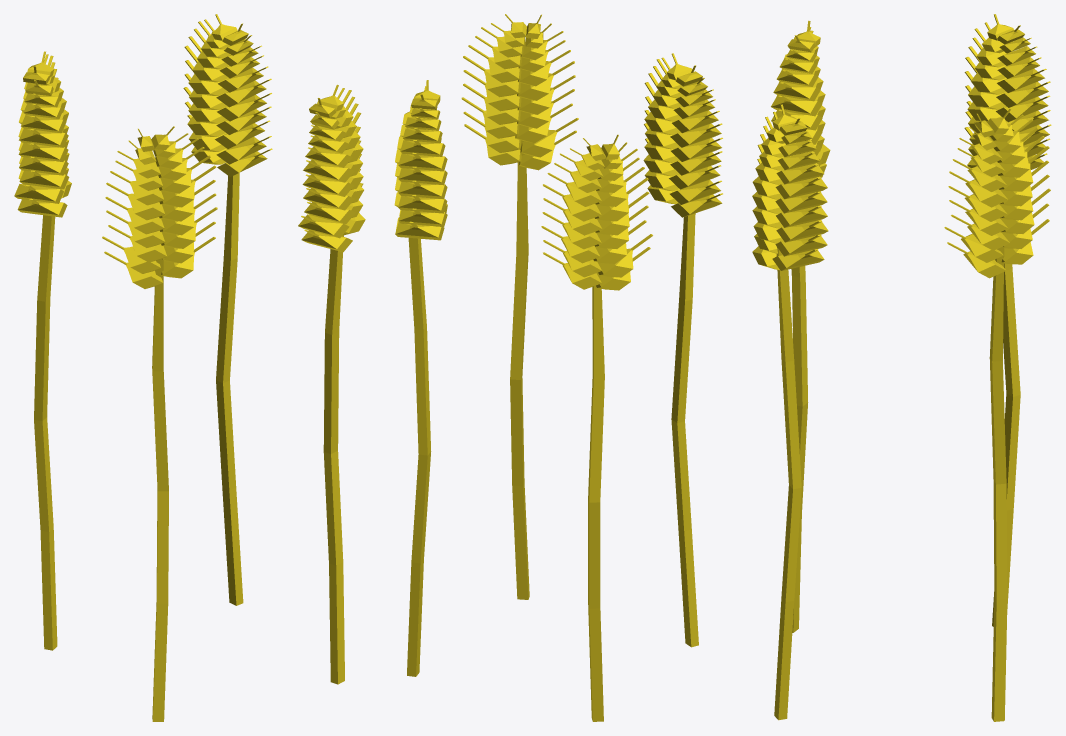
Rendered from wheat.gltf.
3 views of the same model, side by side, from view 1: azimuth 30°, elevation 25°; view 2: azimuth 150°, elevation 25°; view 3: azimuth 270°, elevation 25° (orthographic). The views are drawn at different scales.
Parts seen in each view (by area): view 1: Wheat.018, Wheat.020, Wheat.021, Wheat.019; view 2: Wheat.021, Wheat.020, Wheat.019, Wheat.018; view 3: Wheat.018, Wheat.021, Wheat.019, Wheat.020.
Boxes of the visible parts, left/top/right/bottom form: Wheat.018: left=183, top=14, right=272, bottom=605; Wheat.020: left=102, top=126, right=217, bottom=721; Wheat.021: left=298, top=84, right=365, bottom=684; Wheat.019: left=14, top=51, right=71, bottom=650; Wheat.021: left=461, top=14, right=578, bottom=599; Wheat.020: left=643, top=53, right=722, bottom=647; Wheat.019: left=541, top=134, right=652, bottom=721; Wheat.018: left=394, top=80, right=447, bottom=676; Wheat.018: left=944, top=108, right=1050, bottom=721; Wheat.021: left=752, top=104, right=828, bottom=720; Wheat.019: left=964, top=14, right=1051, bottom=626; Wheat.020: left=771, top=20, right=830, bottom=632.
Bounding box in the file's own units: 1.39 × 2.96 × 1.33.
